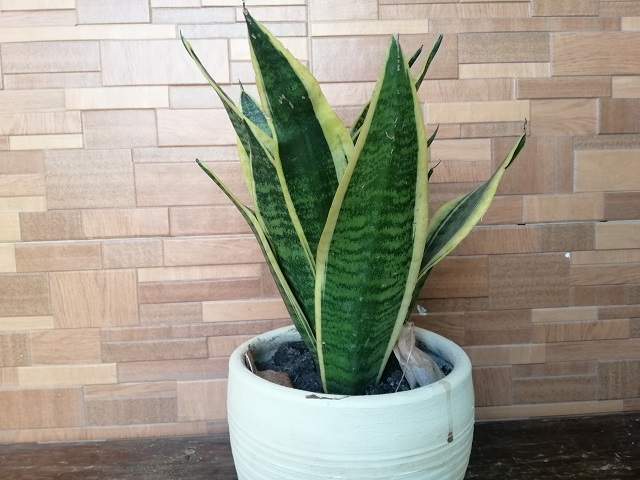plant: (177, 1, 506, 480)
wall: (4, 3, 174, 435), (541, 7, 640, 408)
